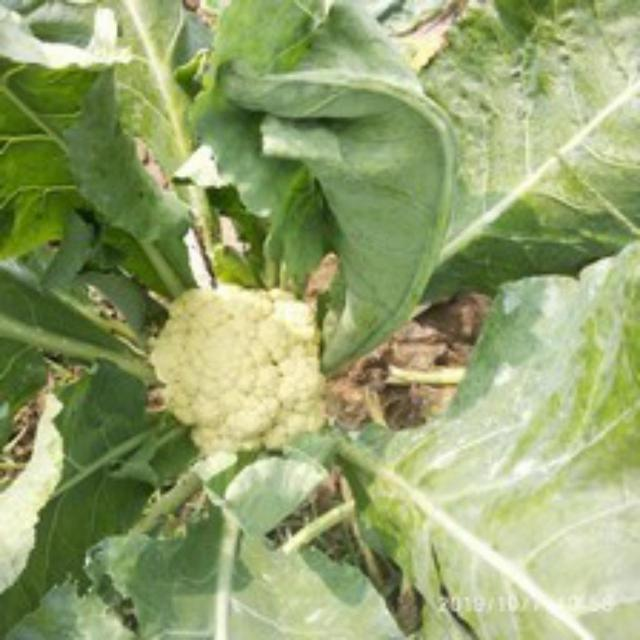cauliflower: (136, 271, 338, 465)
